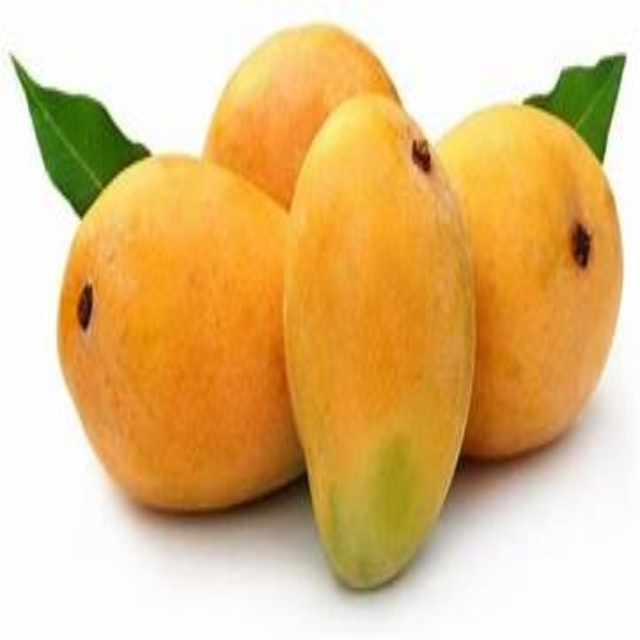mango: (57, 154, 318, 516), (290, 97, 481, 589), (431, 108, 624, 457), (207, 20, 408, 190)
